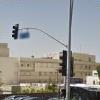Traffic light: (10, 19, 30, 51)
